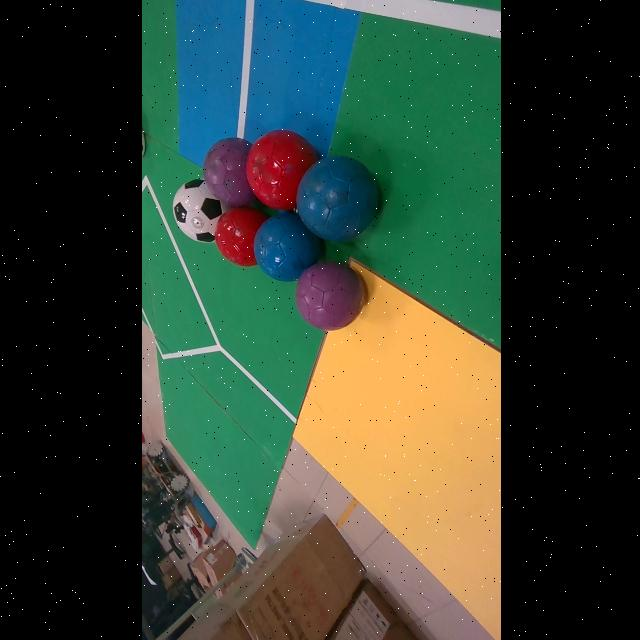B: (295, 156, 377, 242), (252, 212, 320, 282)
P: (294, 263, 365, 330), (201, 137, 254, 206)
R: (244, 130, 317, 210), (212, 207, 264, 266)
